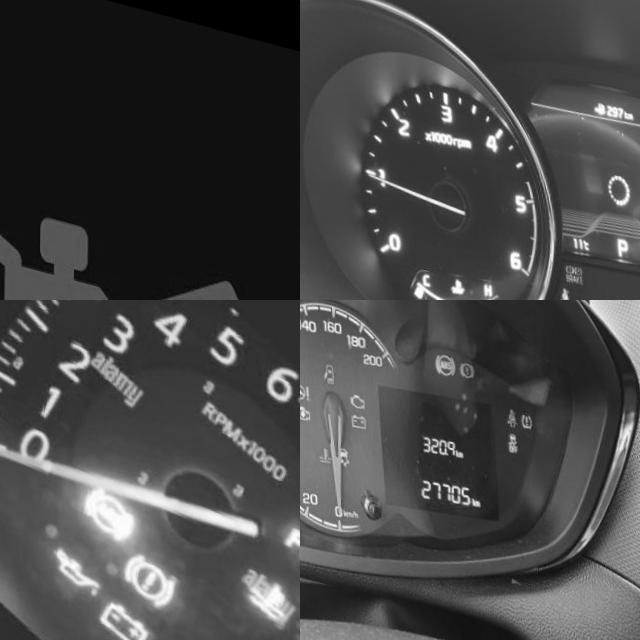Doors: (323, 345, 335, 368)
Engine cooling system: (245, 542, 300, 608), (223, 617, 279, 640), (319, 428, 332, 448)
